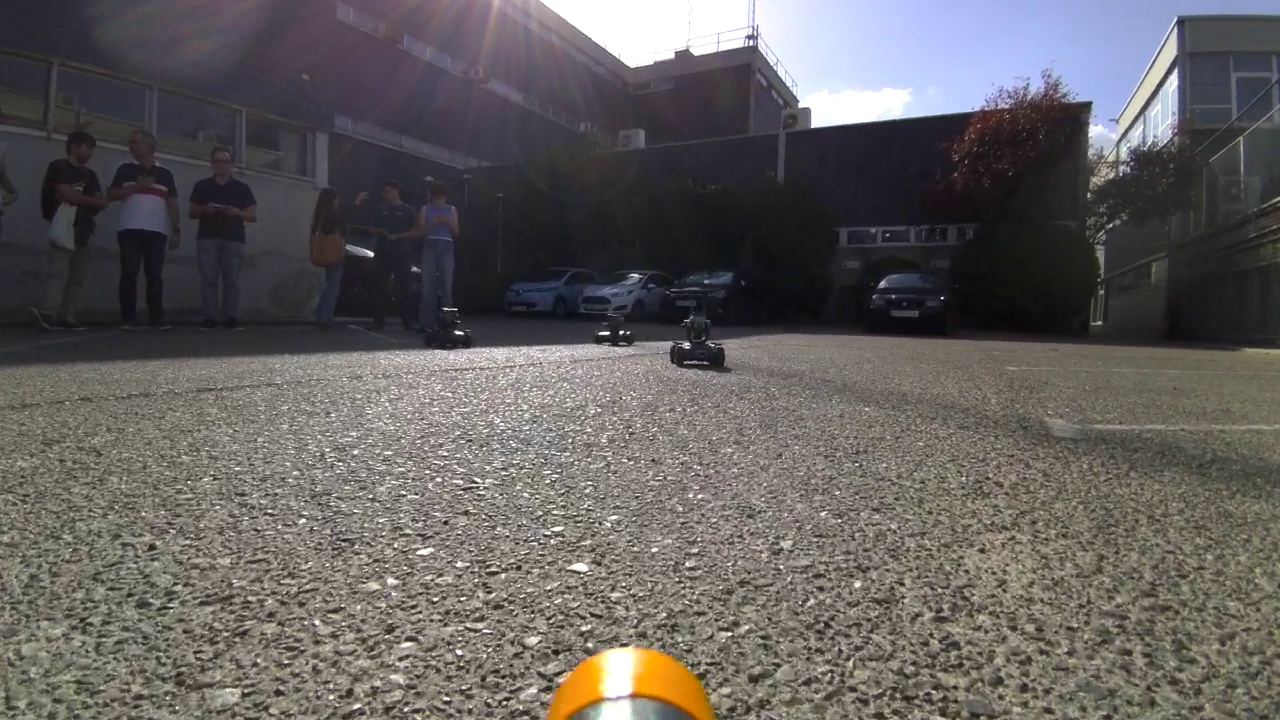robot: (658, 311, 738, 373), (420, 303, 476, 350), (588, 306, 641, 350)
